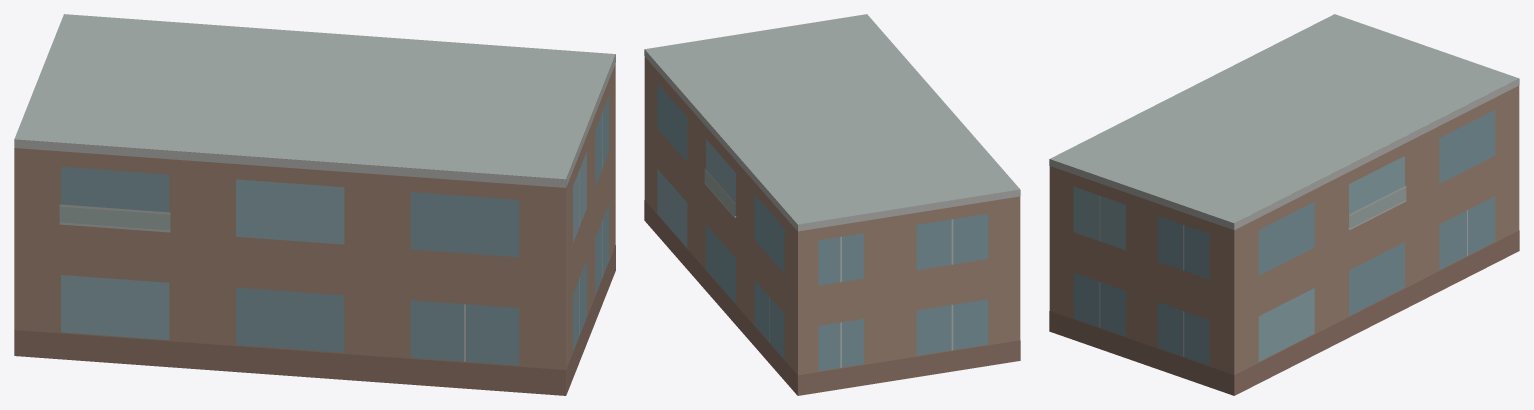
The model's file is survey-upis-32938519.glb.
The picture shows the model from 3 angles, left to right: view 1: azimuth 30°, elevation 25°; view 2: azimuth 150°, elevation 25°; view 3: azimuth 270°, elevation 25°; orthographic projection. The views are drawn at different scales.
Visible parts, largest first — view 1: survey-upis-32938519.tmp; view 2: survey-upis-32938519.tmp; view 3: survey-upis-32938519.tmp.
Boxes of the visible parts, x1,y1,x2,y2 form: survey-upis-32938519.tmp: (14,14,615,395); survey-upis-32938519.tmp: (644,14,1020,395); survey-upis-32938519.tmp: (1049,14,1519,395).
Bounding box in the file's own units: 15.88 × 6.1 × 15.06.
